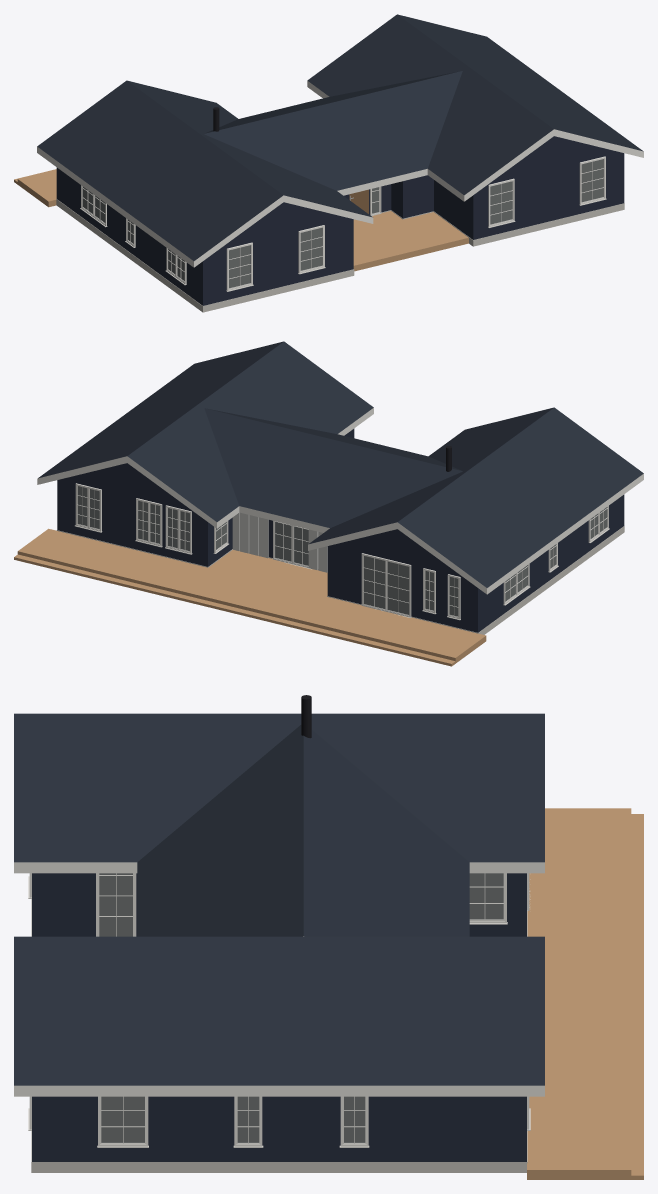
The model's file is teder_c0_p1_m1.glb.
The picture shows the model from 3 angles, top to bottom: view 1: azimuth 30°, elevation 25°; view 2: azimuth 150°, elevation 25°; view 3: azimuth 270°, elevation 25°; orthographic projection. The views are drawn at different scales.
Parts seen in each view (by area): view 1: roof, wall, deck, fascia, glass, curtain, plinth, frame; view 2: roof, deck, wall, glass, curtain, frame, fascia, panel, plinth; view 3: roof, deck, wall, fascia, glass, curtain, plinth, frame.
Part boxes in pixels (<box>): roof: <box>37,14,643,260</box>; wall: <box>56,136,624,305</box>; deck: <box>14,169,468,271</box>; fascia: <box>37,81,643,267</box>; glass: <box>82,159,603,288</box>; curtain: <box>83,159,603,287</box>; plinth: <box>56,199,624,312</box>; frame: <box>80,156,606,291</box>; roof: <box>38,341,643,587</box>; deck: <box>14,528,486,666</box>; wall: <box>57,428,624,632</box>; glass: <box>77,486,607,616</box>; curtain: <box>78,486,606,616</box>; frame: <box>75,483,609,620</box>; fascia: <box>37,408,643,594</box>; panel: <box>232,512,327,572</box>; plinth: <box>56,526,624,634</box>; roof: <box>14,713,544,1085</box>; deck: <box>527,808,643,1179</box>; wall: <box>32,873,526,1161</box>; fascia: <box>14,862,544,1096</box>; glass: <box>99,873,503,1142</box>; curtain: <box>99,873,503,1142</box>; plinth: <box>31,899,527,1172</box>; frame: <box>28,873,530,1147</box>.
Size of the model in its own units: 21.93 by 5.66 by 15.72.
13 materials, 5 textured.
